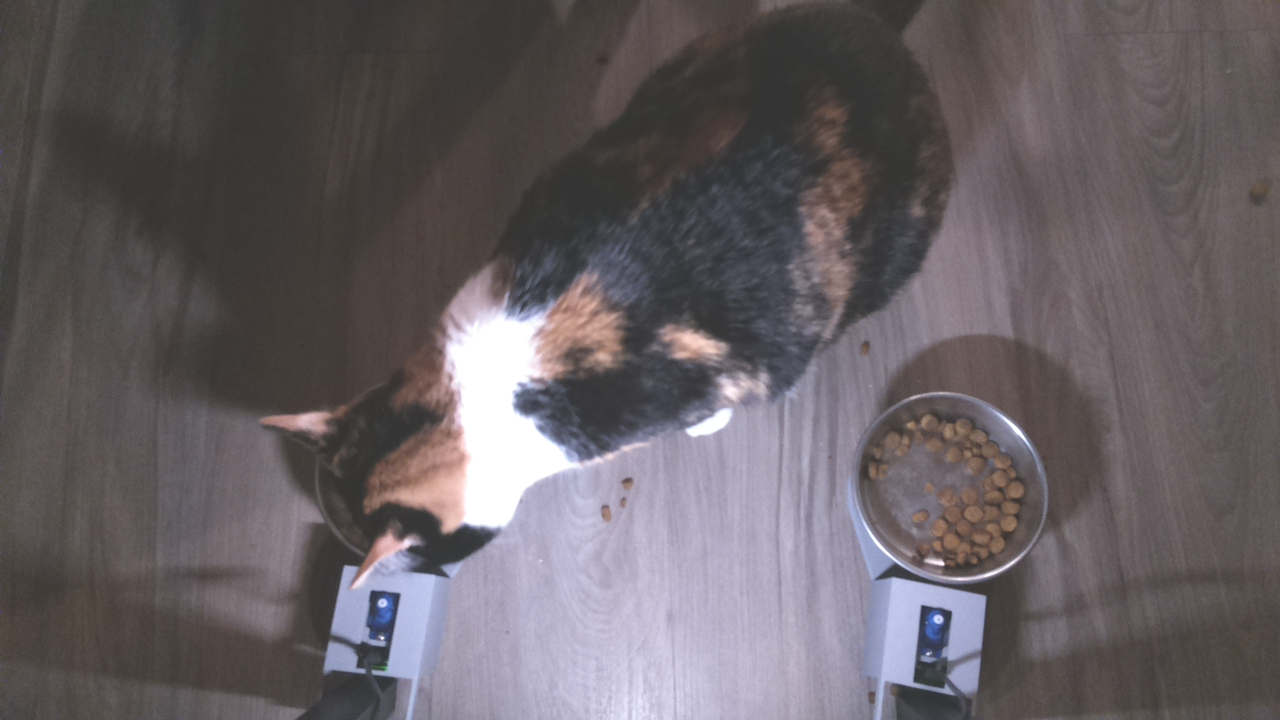bella_eating: (241, 296, 606, 591)
open_bowl: (849, 383, 1051, 586)
